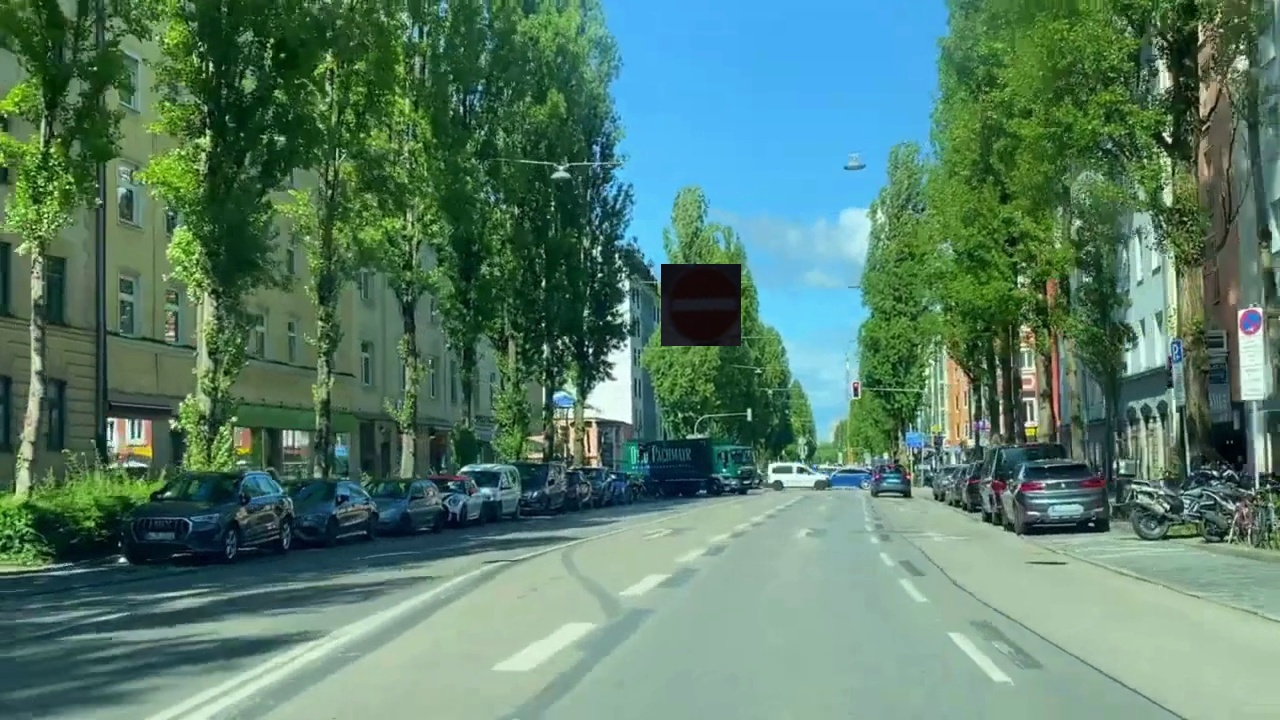No entry: (661, 264, 741, 346)
